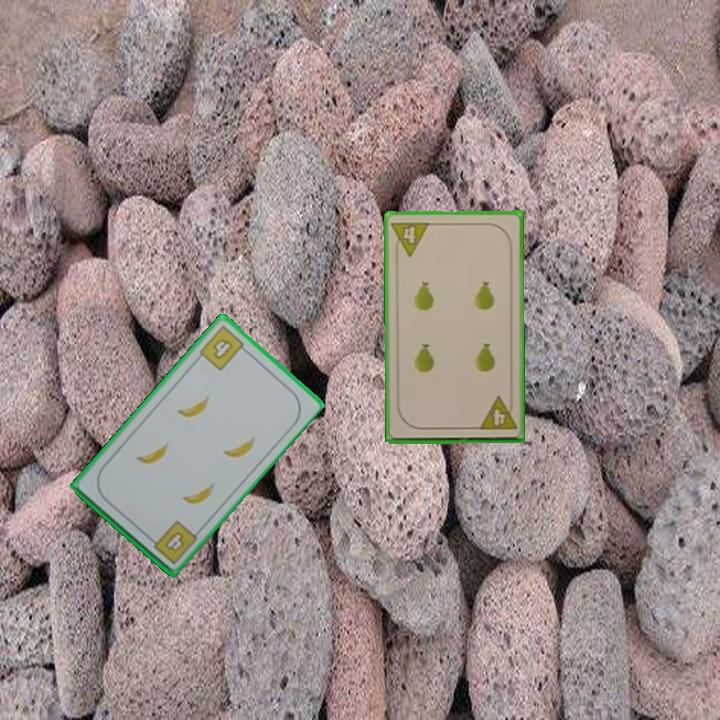4b: (196, 322, 251, 373), (145, 516, 200, 567)
4p: (388, 218, 432, 259), (475, 393, 519, 433)
